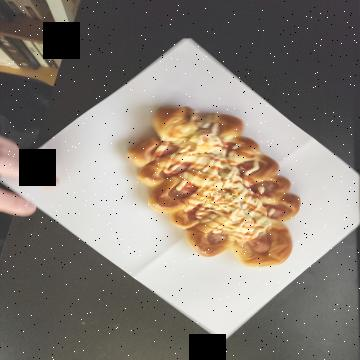pizza_bread: (102, 52, 262, 230)
